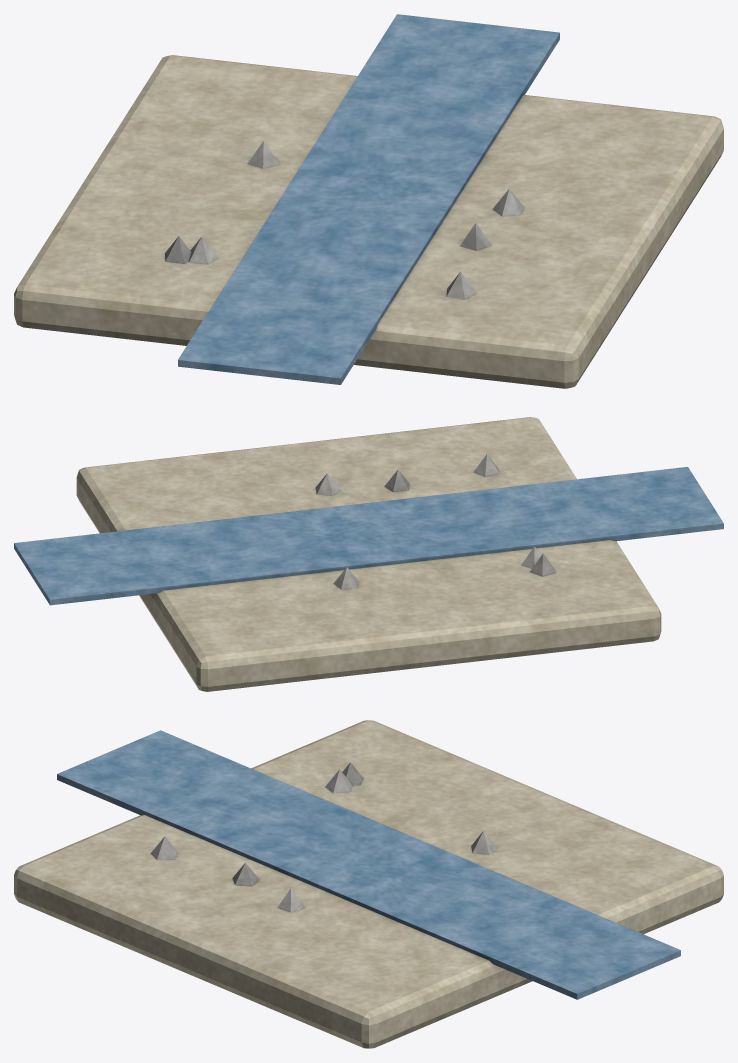
The model's file is river_d.glb.
3 views of the same model, one above another, from view 1: azimuth 30°, elevation 25°; view 2: azimuth 150°, elevation 25°; view 3: azimuth 270°, elevation 25° (orthographic). The views are drawn at different scales.
Visible parts, largest first — view 1: dilek; view 2: dilek; view 3: dilek.
Boxes of the visible parts, left/top/right/bottom form: dilek: left=14, top=14, right=723, bottom=388; dilek: left=14, top=417, right=723, bottom=691; dilek: left=14, top=720, right=723, bottom=1048.
Size of the model in its own units: 2.42 by 0.21 by 2.42.
Materials: 1 (1 with a texture image).
